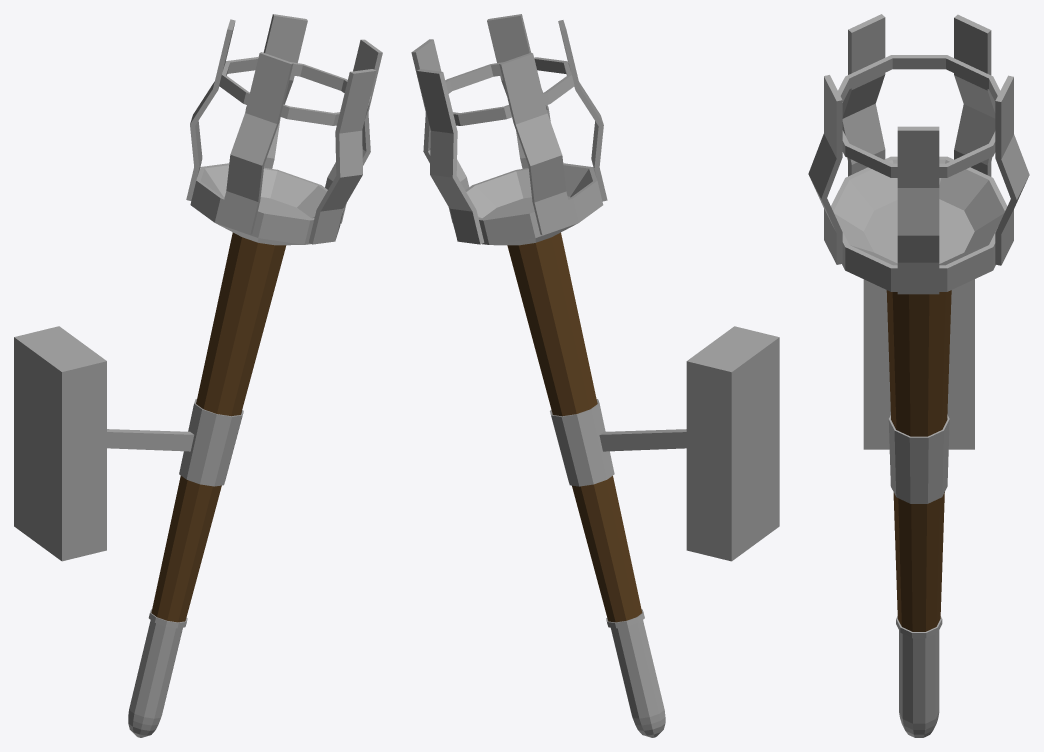
The model's file is Torch.fbx.
3 renders of one model, left to right at view 1: azimuth 30°, elevation 25°; view 2: azimuth 150°, elevation 25°; view 3: azimuth 270°, elevation 25°, orthographic. The views are drawn at different scales.
Visible parts, largest first — view 1: Torch; view 2: Torch; view 3: Torch.
Boxes of the visible parts, x1=… form: Torch: x1=14, y1=14, x2=382, y2=737; Torch: x1=411, y1=14, x2=779, y2=737; Torch: x1=808, y1=14, x2=1029, y2=737.
Bounding box in the file's own units: 25.53 × 48.75 × 12.53.
